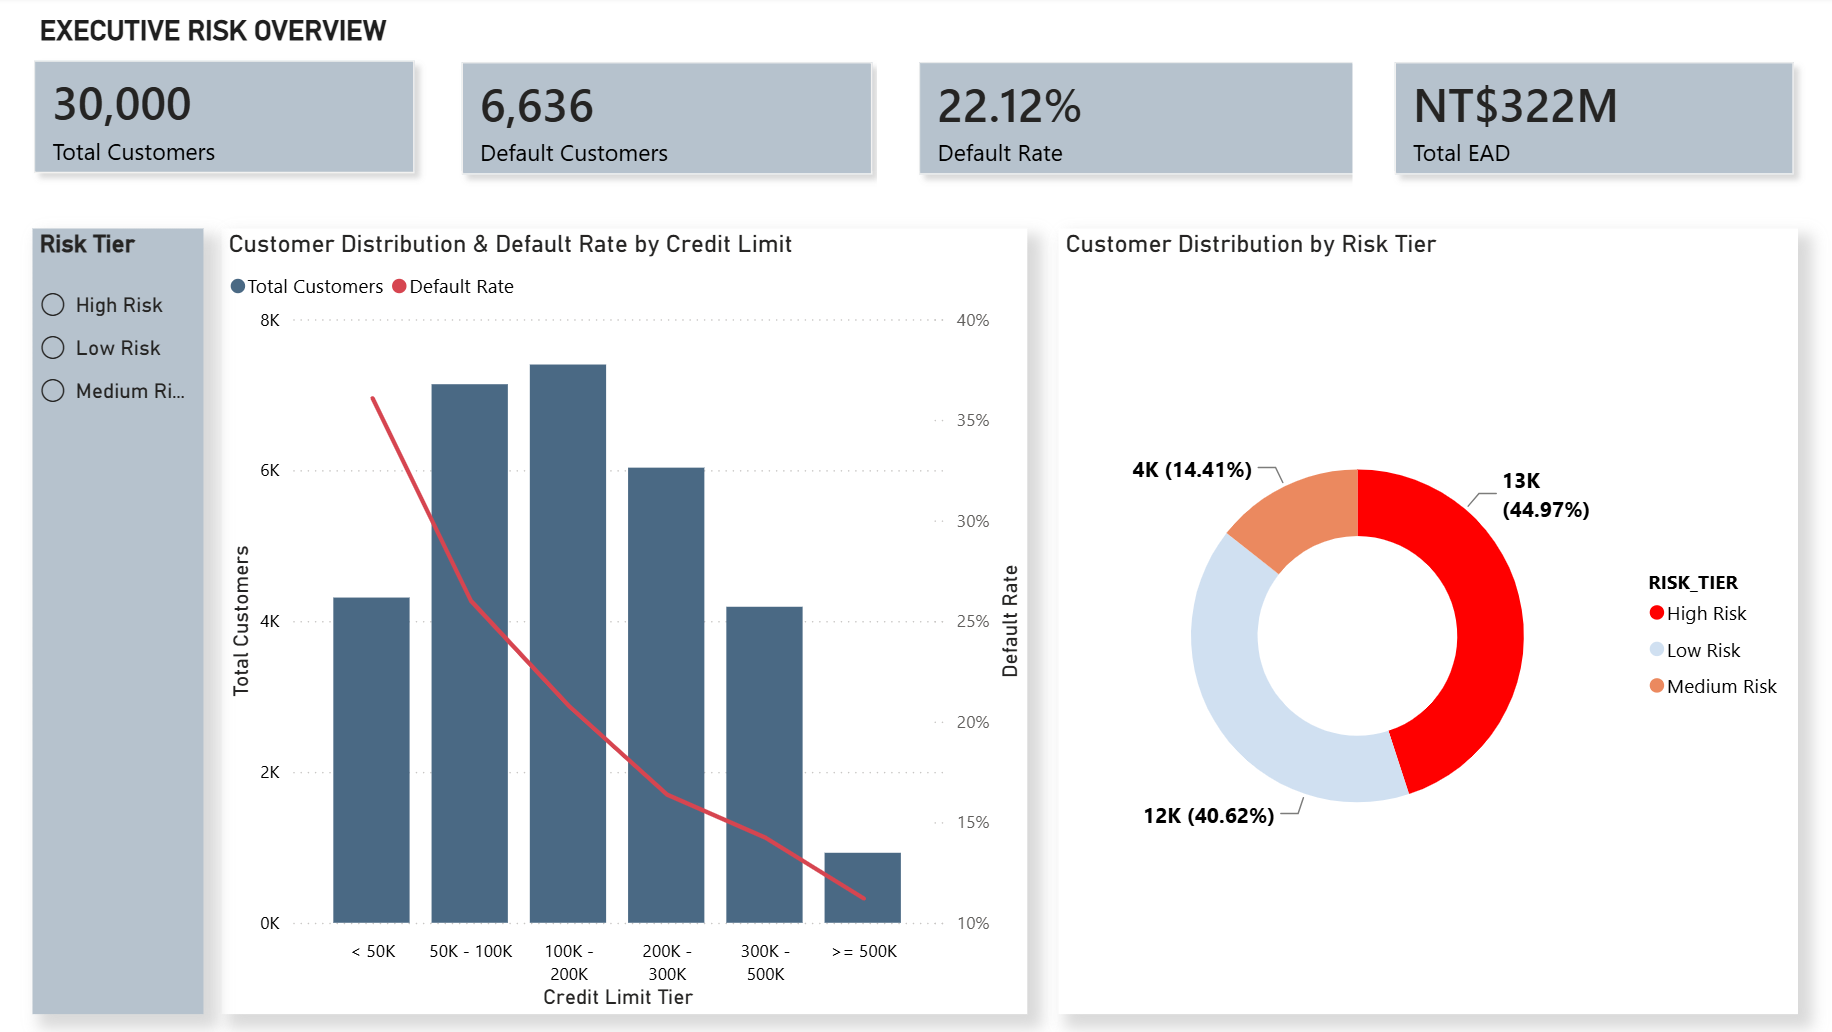

Layout of this report page (visuals, bound fields, positions):
{"tool":"powerbi","page":{"name":"Executive Overview","canvas":[1280,720],"ordinal":0},"visuals":[{"type":"lineClusteredColumnComboChart","title":"Customer Distribution & Default Rate by Credit Limit","fields":{"Y":["credit_card_features.Total Customers"],"Category":["credit_card_features.LIMIT_GROUP"],"Y2":["credit_card_features.Default Rate"]},"box":[159.3,161.4,559.1,545.6],"z":0},{"type":"donutChart","title":"Customer Distribution by Risk Tier","fields":{"Category":["credit_card_features.RISK_TIER"],"Y":["credit_card_features.Total Customers"]},"box":[740.3,161.4,513.3,545.6],"z":1000},{"type":"listSlicer","title":"Risk Tier","fields":{"Values":["credit_card_features.RISK_TIER"]},"box":[28.1,161.4,118.7,545.6],"z":2000},{"type":"cardVisual","fields":{"Data":["credit_card_features.Default Customers"]},"box":[296.7,16.7,343.6,136.4],"z":3000},{"type":"cardVisual","fields":{"Data":["credit_card_features.Default Rate"]},"box":[614.3,16.7,360.3,136.4],"z":4000},{"type":"cardVisual","fields":{"Data":["credit_card_features.Total EAD"]},"box":[944.4,16.7,335.3,136.4],"z":5000},{"type":"cardVisual","fields":{"Data":["credit_card_features.Total Customers"]},"box":[0,15.6,322.8,136.4],"z":6000},{"type":"textbox","box":[28.1,7.3,299.9,33.3],"z":7000}]}

Visuals, with their boxes in screenshot pixels (x1, y1, x2, y2), scaled from the page's 1280x720 canvas onto the 1832x1032 screenshot:
"Customer Distribution & Default Rate by Credit Limit" lineClusteredColumnComboChart: (left=228, top=231, right=1028, bottom=1013)
"Customer Distribution by Risk Tier" donutChart: (left=1060, top=231, right=1794, bottom=1013)
"Risk Tier" listSlicer: (left=40, top=231, right=210, bottom=1013)
cardVisual - credit_card_features.Default Customers: (left=425, top=24, right=916, bottom=219)
cardVisual - credit_card_features.Default Rate: (left=879, top=24, right=1395, bottom=219)
cardVisual - credit_card_features.Total EAD: (left=1352, top=24, right=1831, bottom=219)
cardVisual - credit_card_features.Total Customers: (left=0, top=22, right=462, bottom=218)
textbox: (left=40, top=10, right=469, bottom=58)
